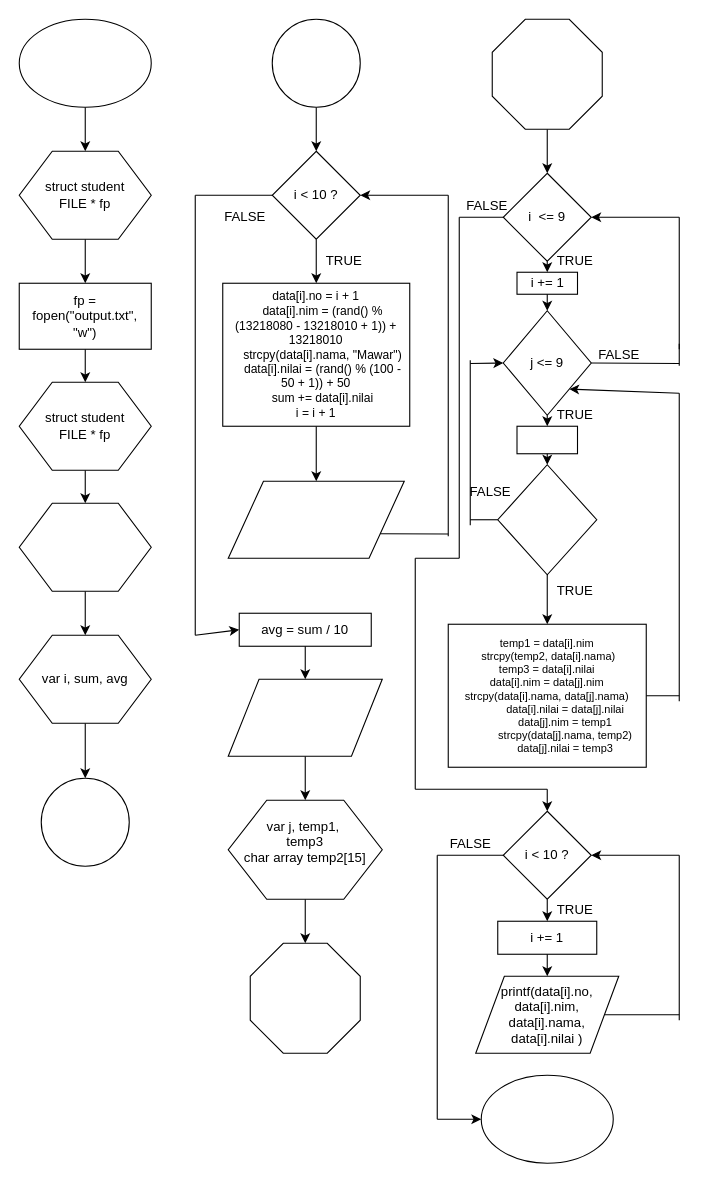
Image size: 707x1183. Some labels were removed from this diagram. The shapes that lost their labels are listed below. From the top down, each one's centre as x and y in pixels, then its label:
the point at 84,62: START
the point at 547,439: j += 1
the point at 315,519: print "data[i].no, data[i].nim, data[i].nama, data[i].nilai "
the point at 547,519: data[j].nilai < data[i].nilai?
the point at 84,546: student array data [10]
the point at 304,717: print "Rata - rata nilai = avg"
the point at 546,1118: END
